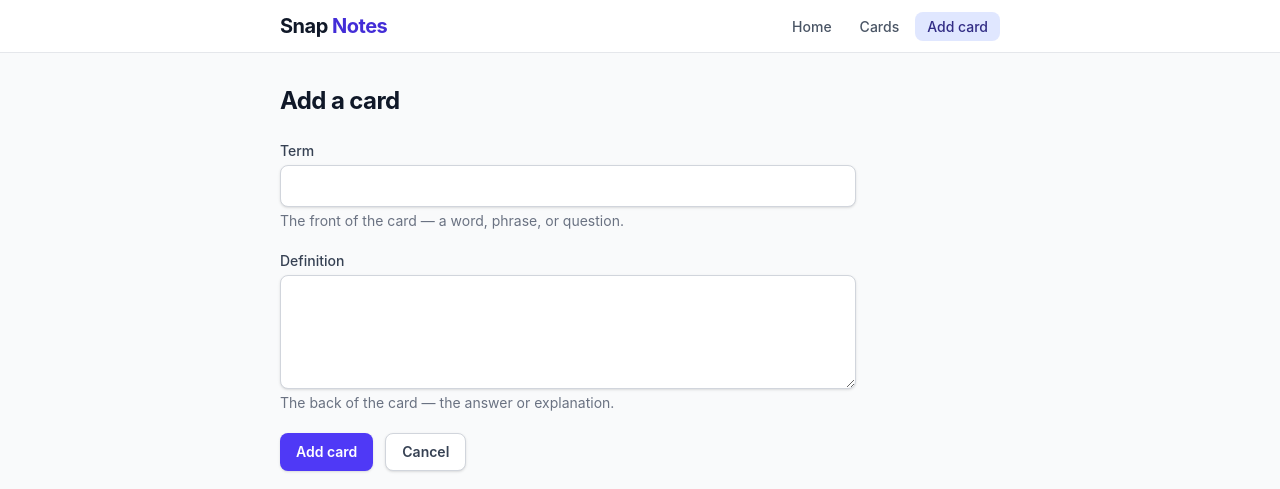
Test: CardFormPage › creates a card and shows it in the list
Type "Mitochondria" into the field labelled "Term". click: (568, 186)
box: [280,165,856,207]
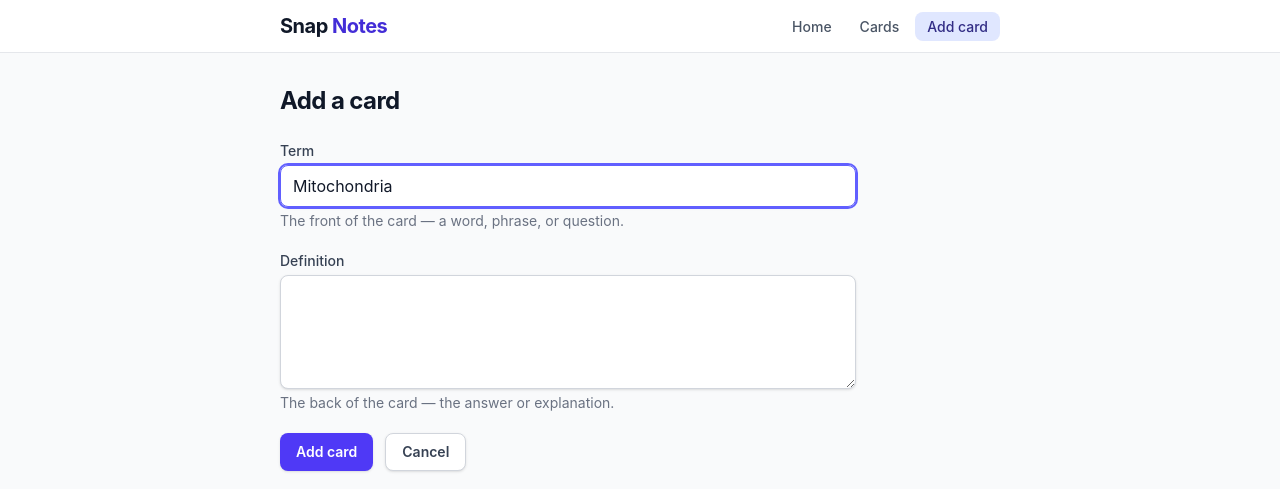
Type "Powerhouse of the cell" into the text box labelled "Definition". click: (568, 332)
box: [280,275,856,389]
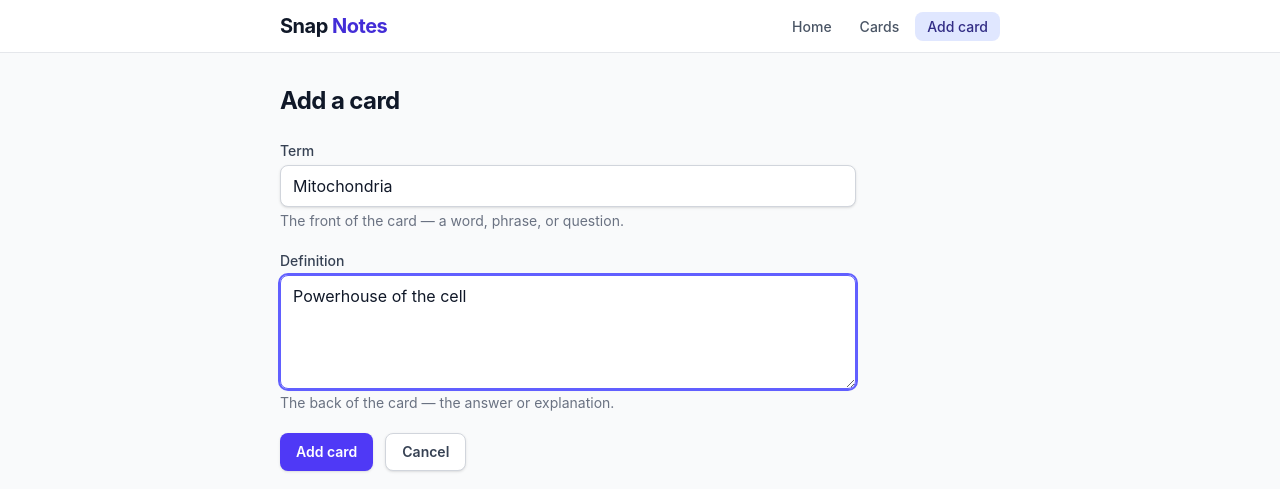
Click the button "Add card". click: (327, 452)
box: [280,433,373,471]
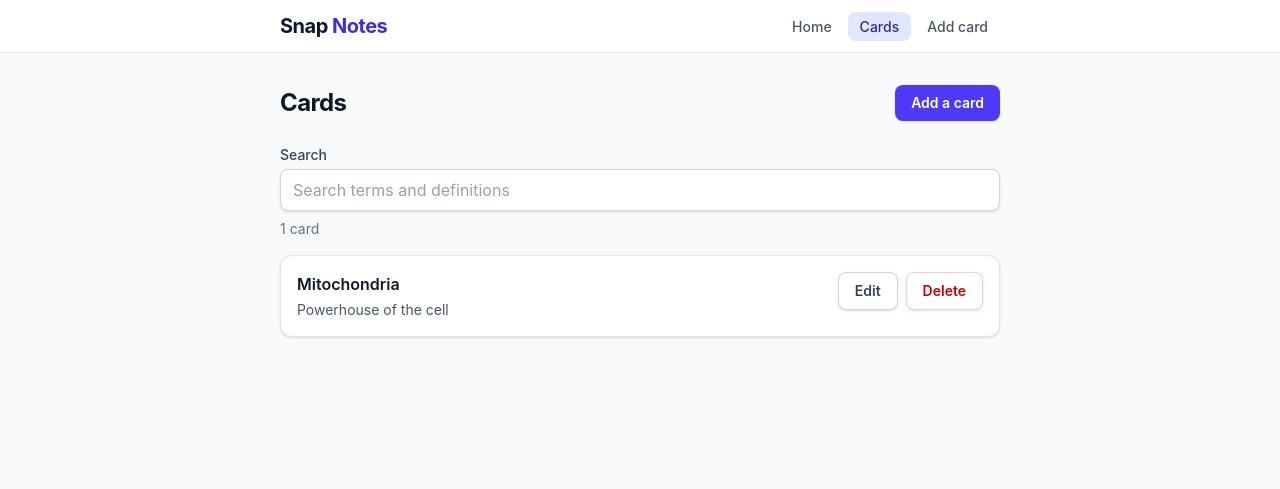
Expected: the heading "Cards" is shown, [280,87,346,119]
Expected: the heading "Mitochondria" is shown, [297,274,400,294]
